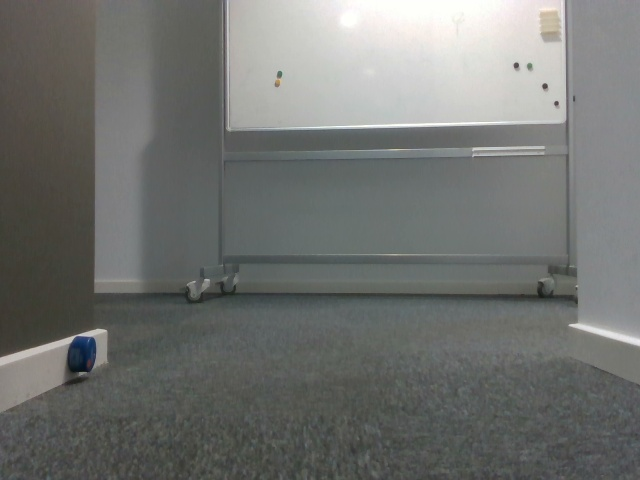alfa: (64, 334, 100, 373)
